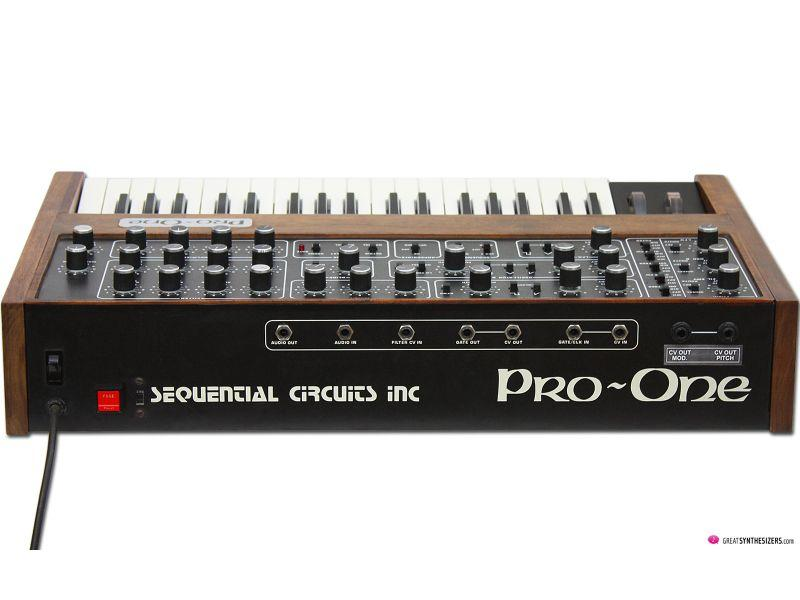synthesizer: (12, 163, 791, 444)
